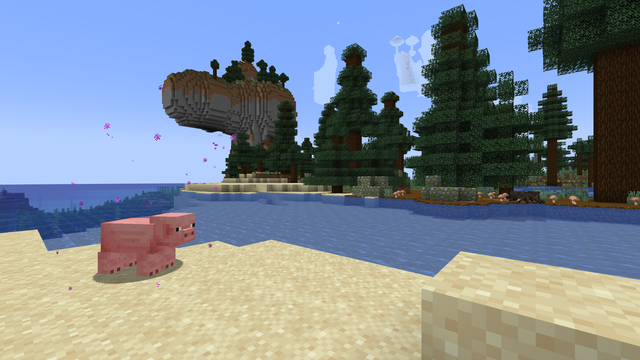araignees: (513, 189, 538, 203)
cochons: (104, 214, 177, 282)
